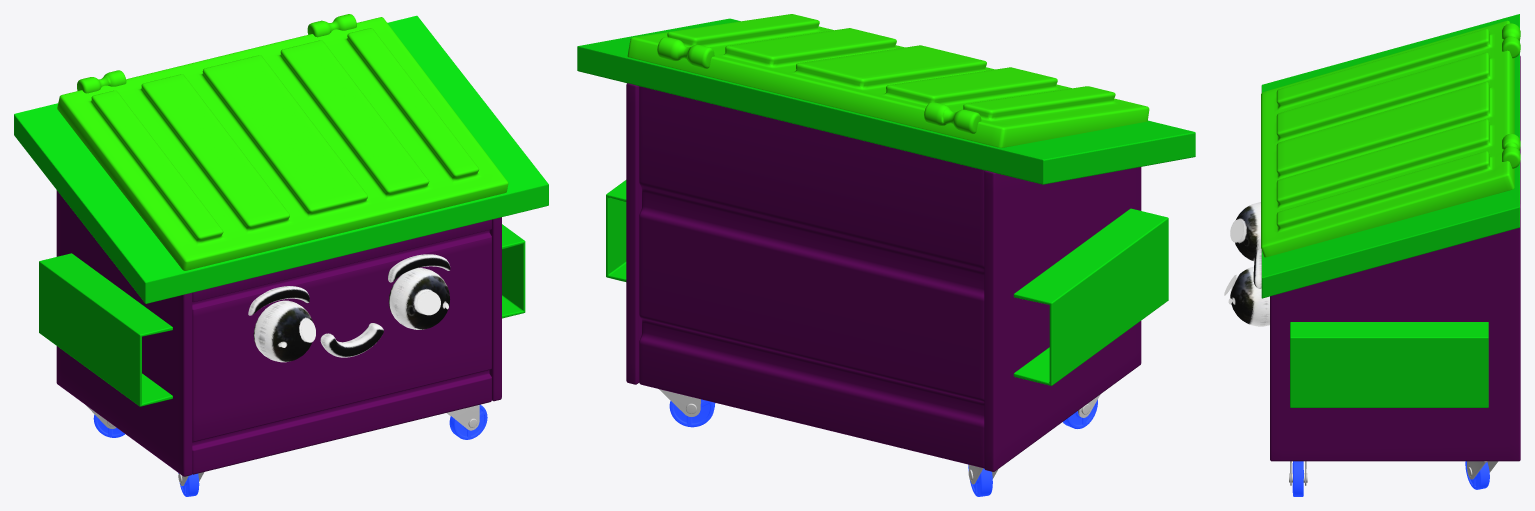
The picture shows the model from 3 angles, left to right: view 1: azimuth 30°, elevation 25°; view 2: azimuth 150°, elevation 25°; view 3: azimuth 270°, elevation 25°; orthographic projection. The views are drawn at different scales.
Parts seen in each view (by area): view 1: Dumpster Geometry, Wheel Holder; view 2: Dumpster Geometry, Wheel Holder; view 3: Dumpster Geometry, Wheel Holder.
Part boxes in pixels (x1=…): Dumpster Geometry: x1=14, y1=14, x2=548, y2=496; Wheel Holder: x1=86, y1=405, x2=479, y2=485; Dumpster Geometry: x1=577, y1=14, x2=1195, y2=496; Wheel Holder: x1=659, y1=389, x2=1100, y2=484; Dumpster Geometry: x1=1224, y1=14, x2=1520, y2=496; Wheel Holder: x1=1289, y1=461, x2=1498, y2=485.
Bounding box in the file's own units: 2.41 × 1.97 × 1.56.
8 materials, 3 textured.
